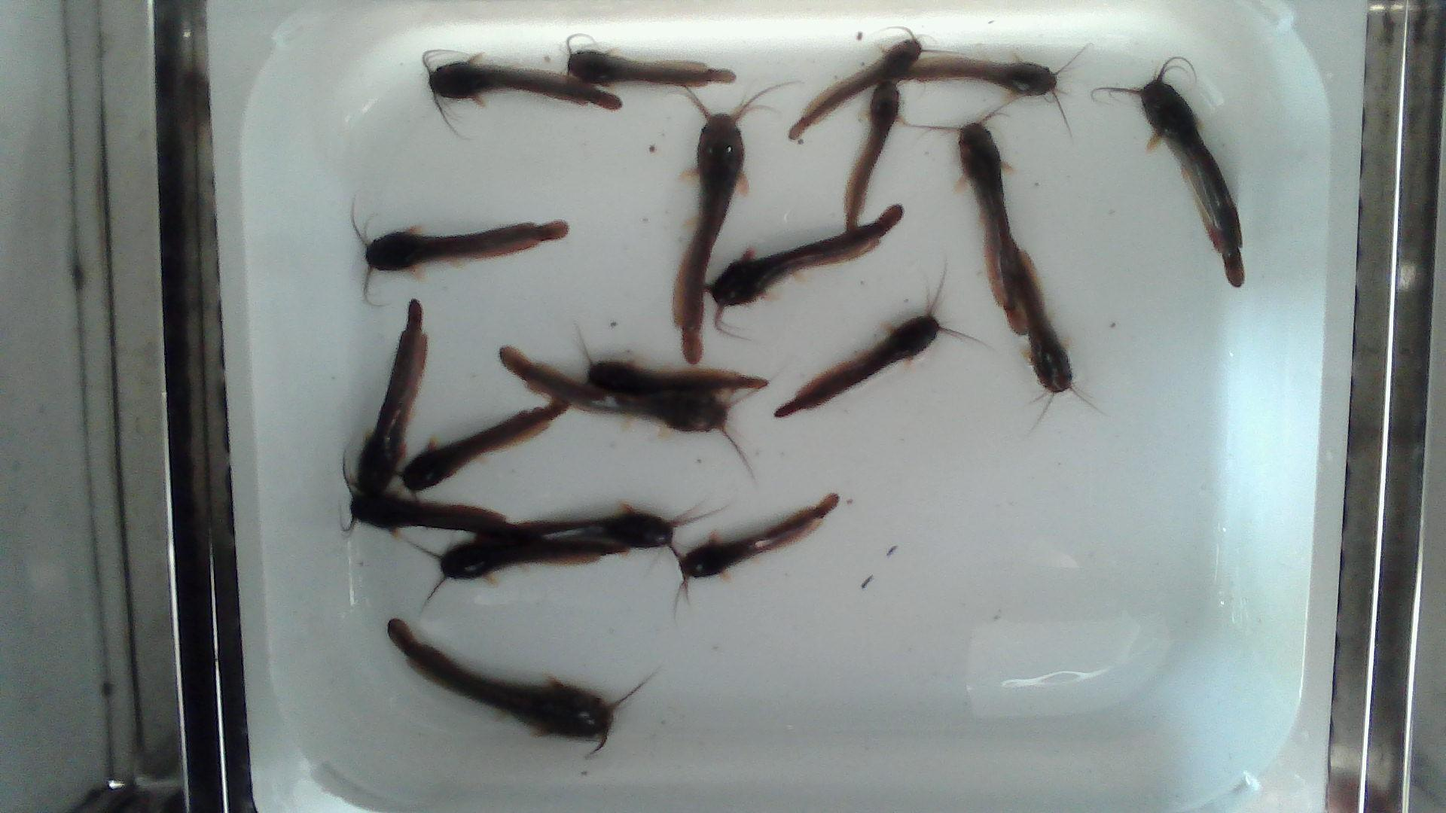lele: (674, 81, 804, 364), (501, 346, 761, 479), (1098, 58, 1244, 287), (901, 98, 1028, 335), (389, 619, 618, 743), (773, 292, 981, 417), (709, 207, 901, 327), (337, 445, 544, 541), (787, 24, 953, 140), (898, 43, 1091, 139), (411, 533, 627, 616), (346, 214, 568, 291), (420, 47, 621, 131), (403, 400, 567, 491), (356, 297, 429, 499), (679, 494, 838, 577), (571, 327, 772, 392), (514, 497, 733, 549), (1016, 245, 1074, 396), (846, 81, 898, 232), (569, 50, 734, 87)
